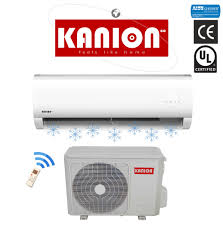ac: (30, 71, 194, 133)
